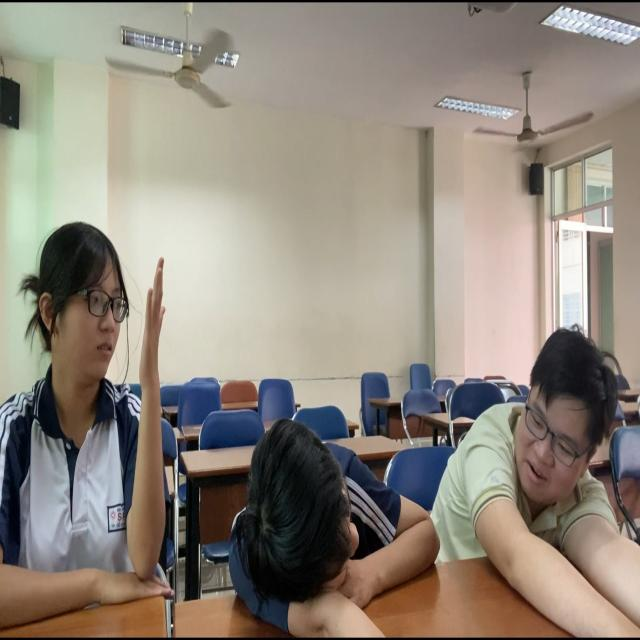raise_hand: (1, 204, 187, 640)
sleep: (214, 386, 440, 640)
